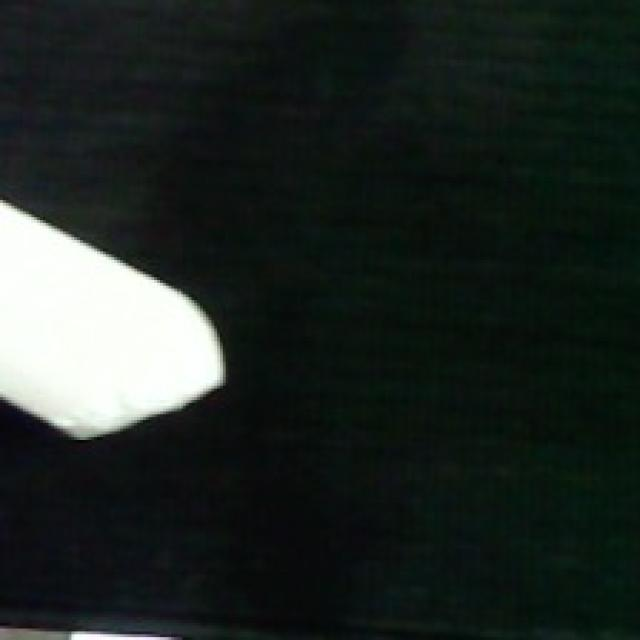defected: (0, 192, 229, 443)
